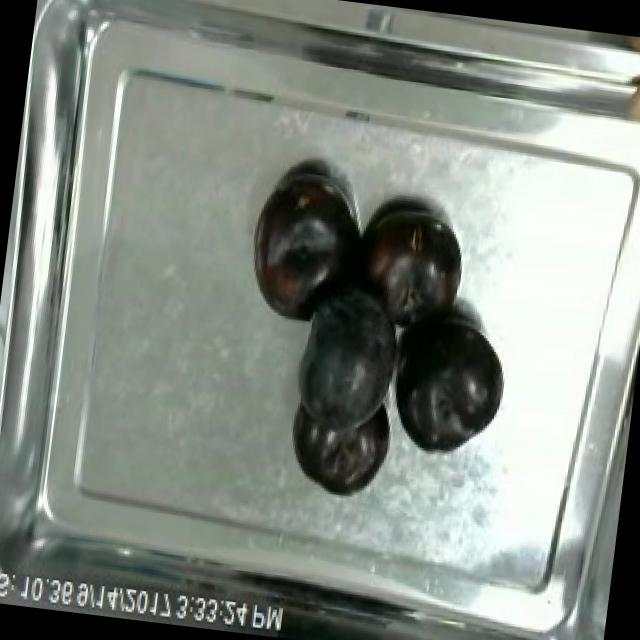Fruit: (384, 300, 520, 467), (230, 166, 362, 338), (347, 196, 477, 344), (614, 48, 640, 145)
